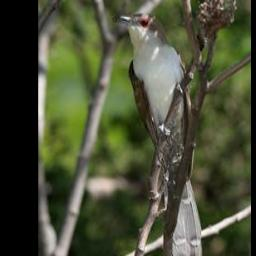Cuckoo: (113, 8, 206, 256)
